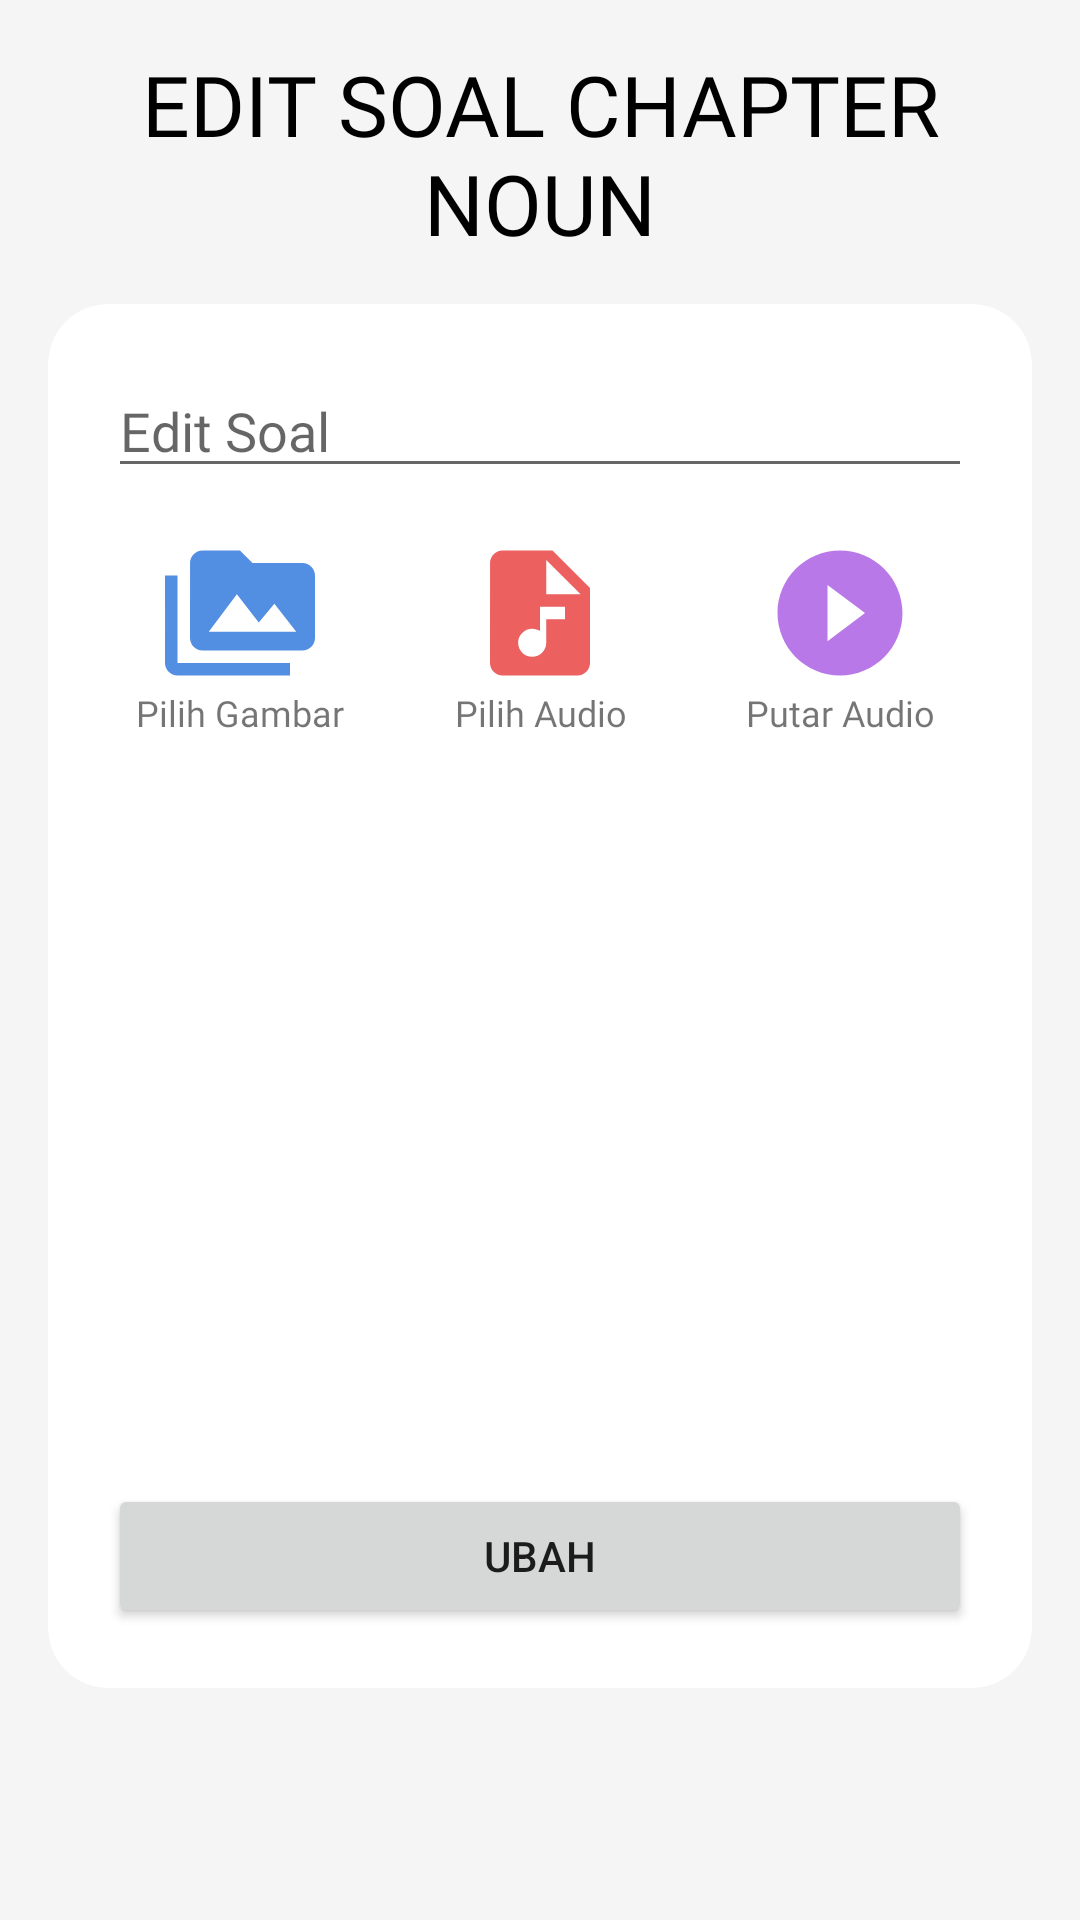

Icons on this 1080px×1920px Android screen, each with its box as [x1, y1, x2, y2]:
audio file: [490, 550, 590, 676]
play circle: [777, 550, 903, 676]
